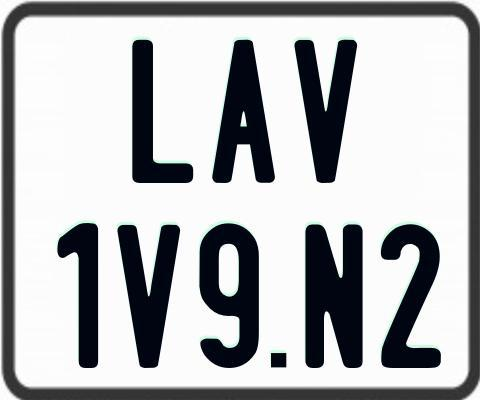1: (57, 221, 101, 368)
2: (380, 221, 442, 367)
9: (196, 220, 262, 366)
A: (210, 39, 278, 183)
L: (129, 40, 191, 184)
N: (304, 223, 368, 372)
V: (293, 38, 359, 184), (115, 225, 179, 368)
